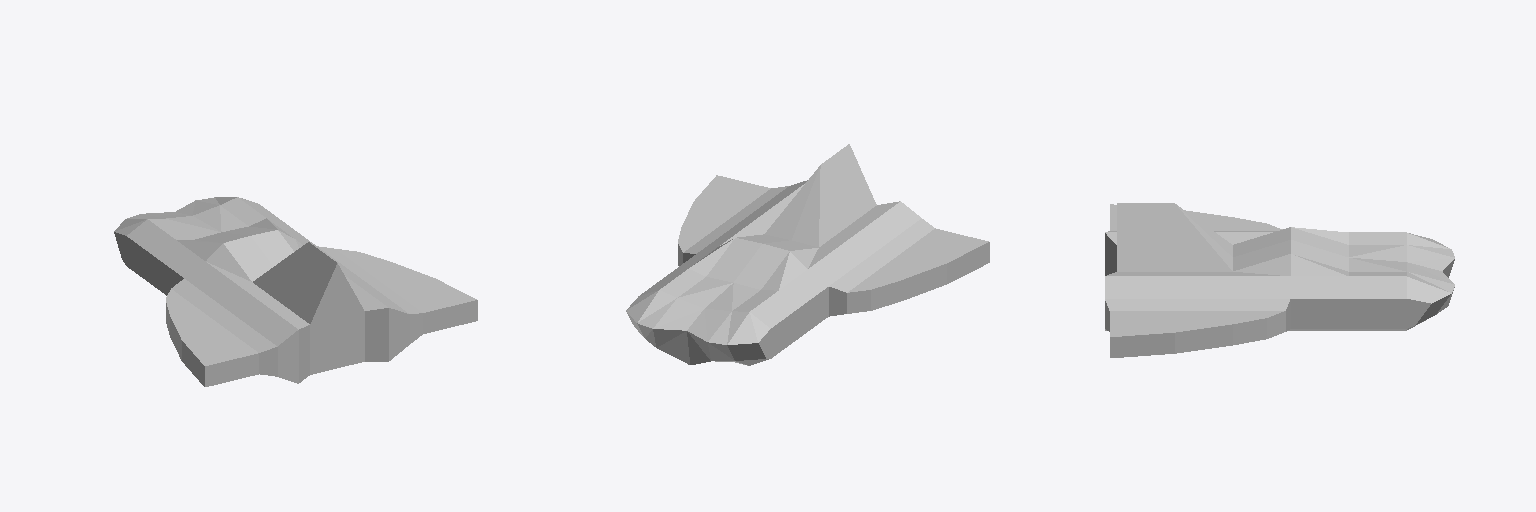
File: Ship.obj
The picture shows the model from 3 angles: view 1: azimuth 30°, elevation 25°; view 2: azimuth 150°, elevation 25°; view 3: azimuth 270°, elevation 25°; orthographic projection.
Parts seen in each view (by area): view 1: Box001; view 2: Box001; view 3: Box001.
Part boxes in pixels (x1,y1,x2,y2): Box001: (114,197,477,386); Box001: (626,144,989,365); Box001: (1105,203,1454,357).
Bounding box in the file's own units: 71.56 × 26.41 × 79.7.